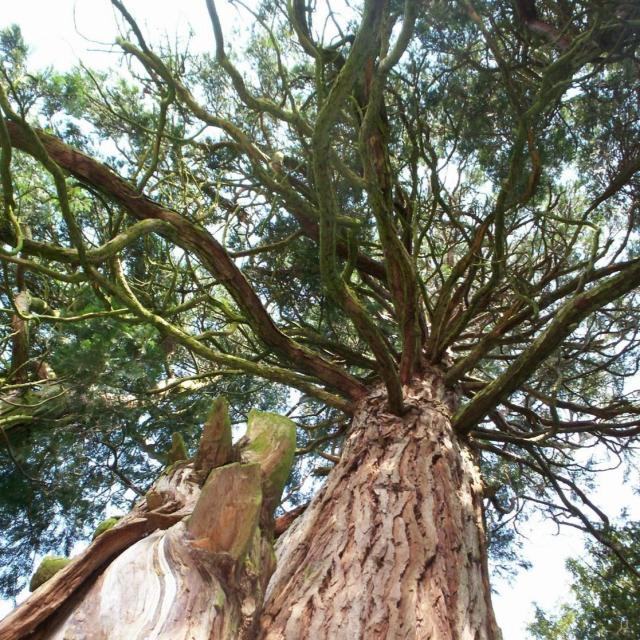Calocedrus decurrens: (0, 7, 640, 640)
